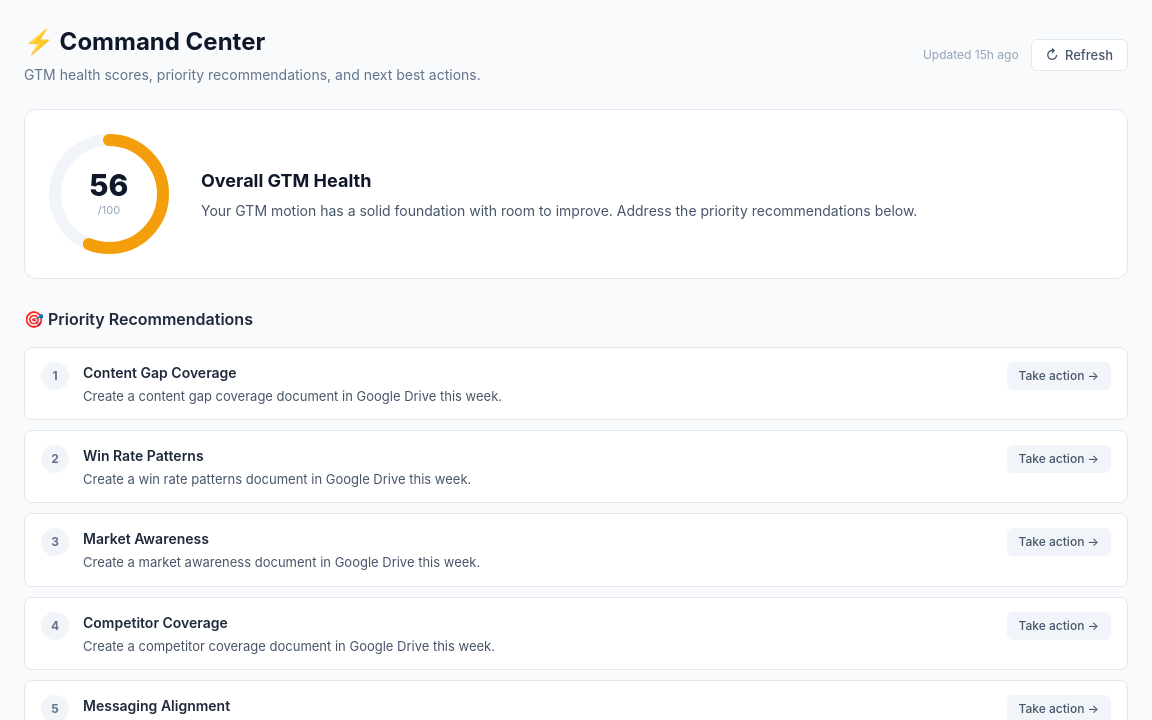
Refresh › shows error banner when refresh fails
Click the button with test id "refresh-button". click: [1079, 54]
box: [1031, 38, 1128, 70]
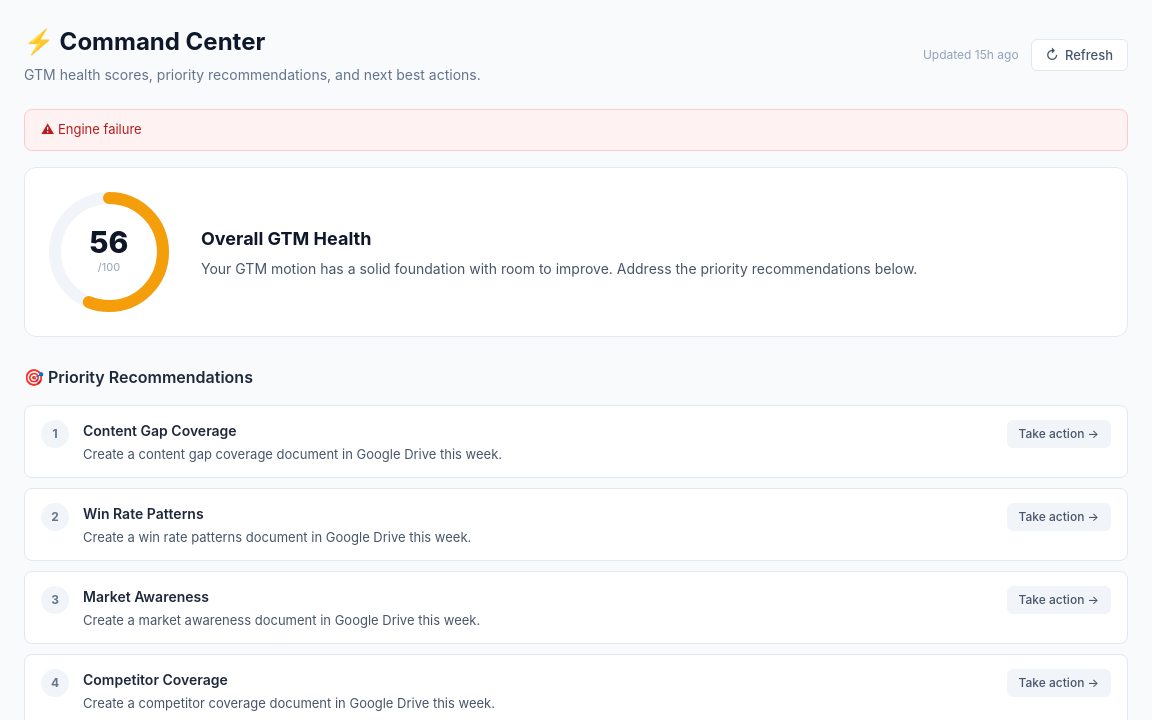
Check: the message "⚠ Engine failure" is shown, box [24, 109, 1128, 150]
Check: the message with test id "refresh-error" shows "Engine failure", box [58, 121, 142, 137]
